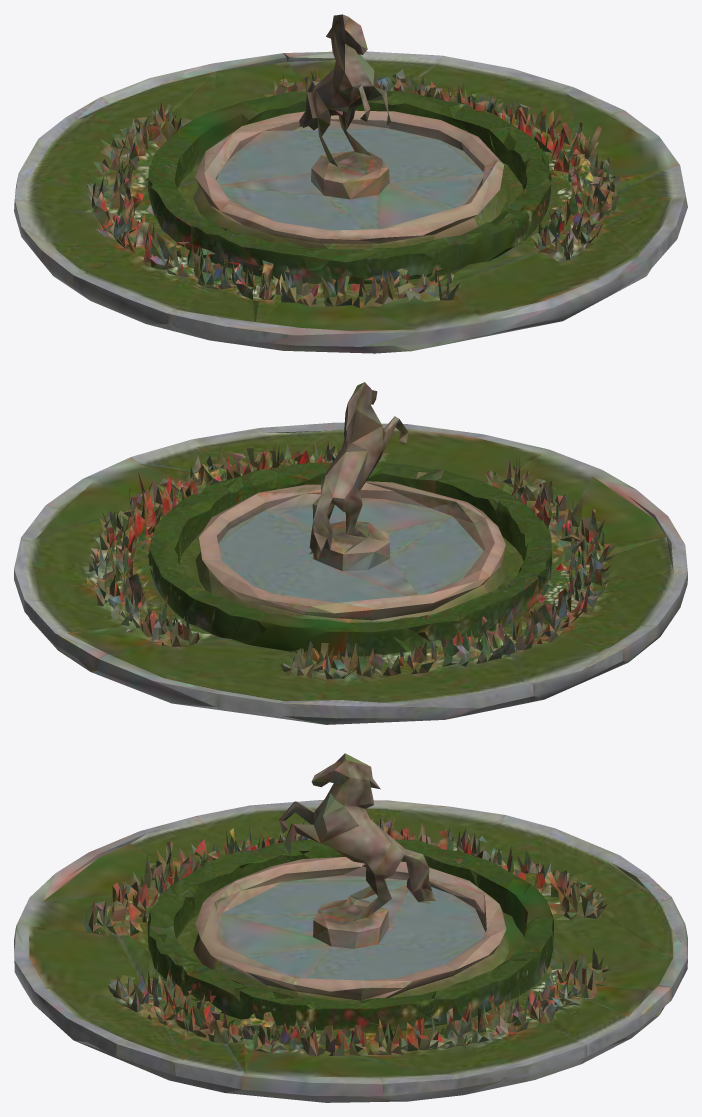
The model's file is kv_brunnen.glb.
3 renders of one model, top to bottom at view 1: azimuth 30°, elevation 25°; view 2: azimuth 150°, elevation 25°; view 3: azimuth 270°, elevation 25°, orthographic.
Size of the model in its own units: 1.89 by 0.6349 by 1.89.
1 material, 1 textured.
